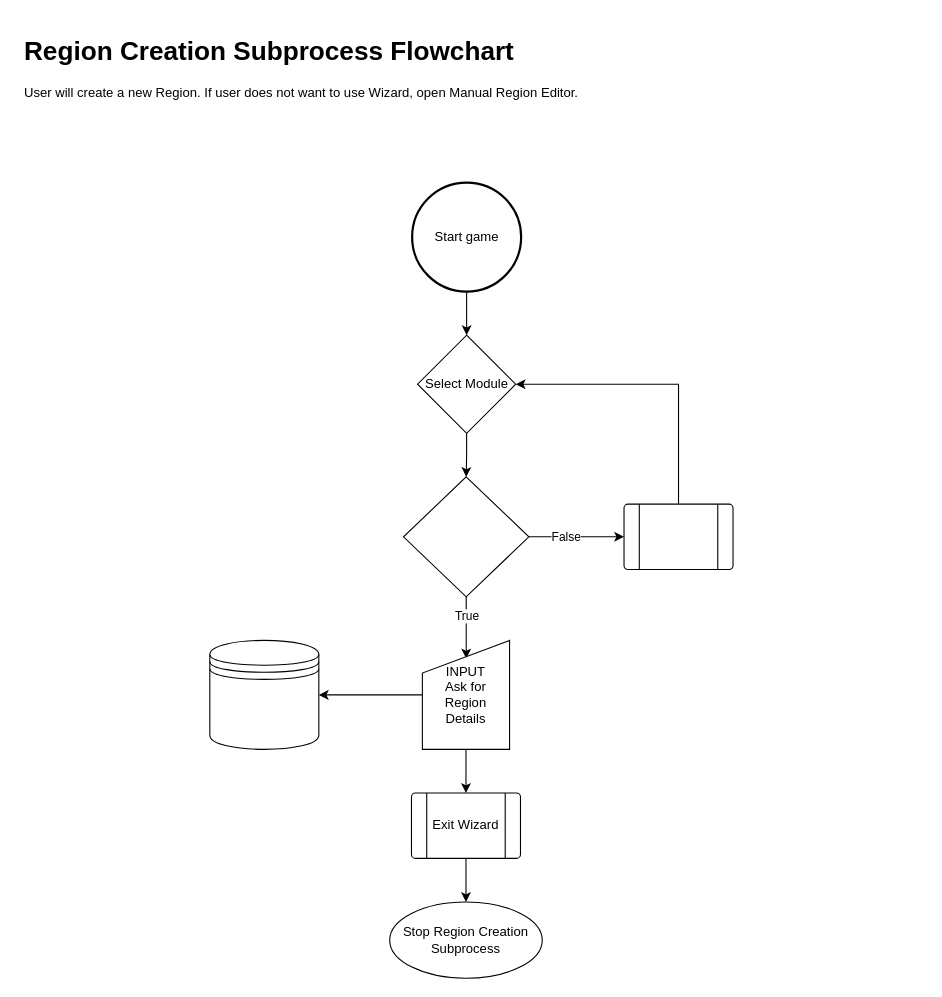
Some shapes in this 942 by 997 pixel diagram are drawn without their labels. Here are the shapes that lost their labels. From the top down, the centre of each, then its label:
the point at 465,536: IF Module Choice Selected == True
the point at 678,536: Module Creation Subprocess
the point at 264,694: Save Details to Database
